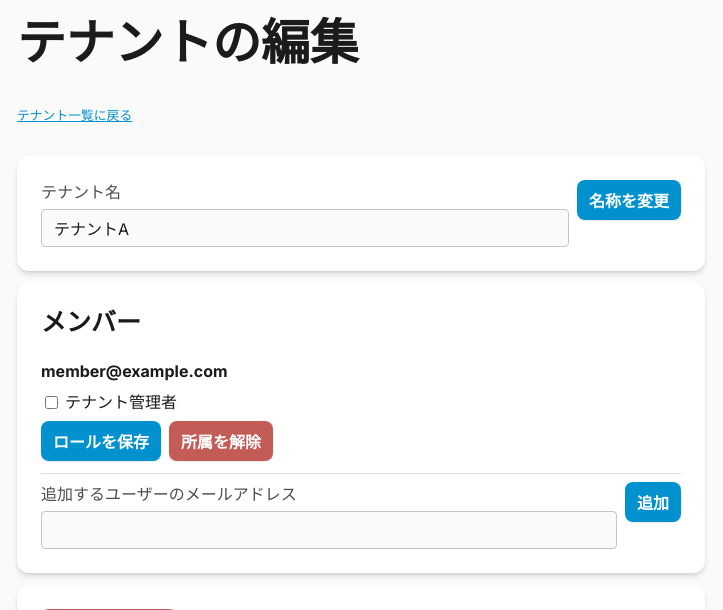
Test: admin tenant detail page › メンバーを追加できない場合はサーバーの理由を表示する
In the field labelled "追加するユーザーのメールアドレス": x=329, y=530 [41,512,617,550], type "nobody@example.com"
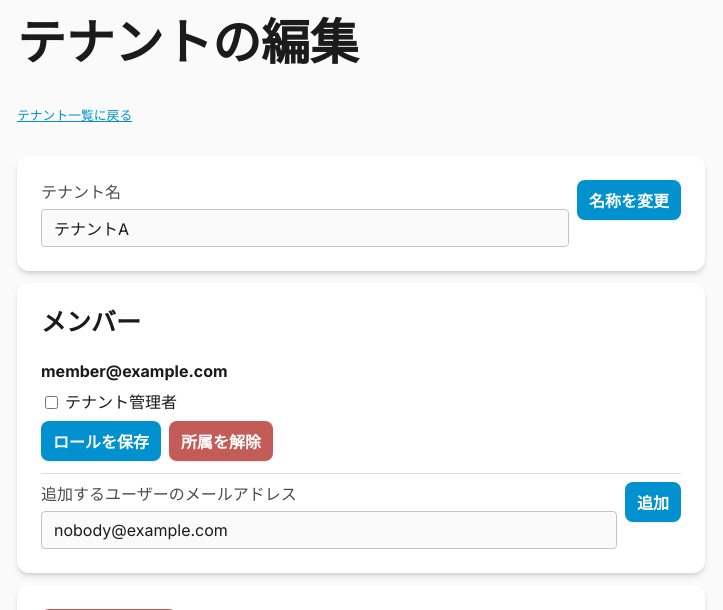
Click the button "追加": x=653, y=502 [625,482,681,522]
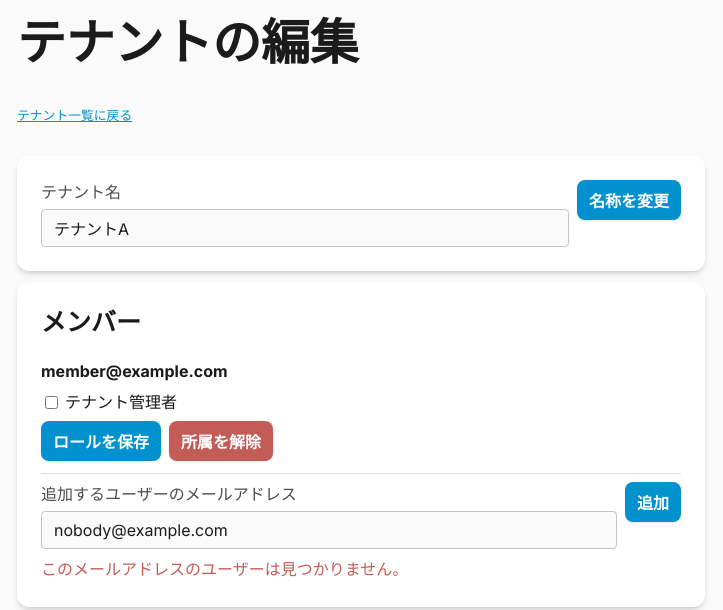
Result: the message shows "見つかりません" at [41,560,408,580]
